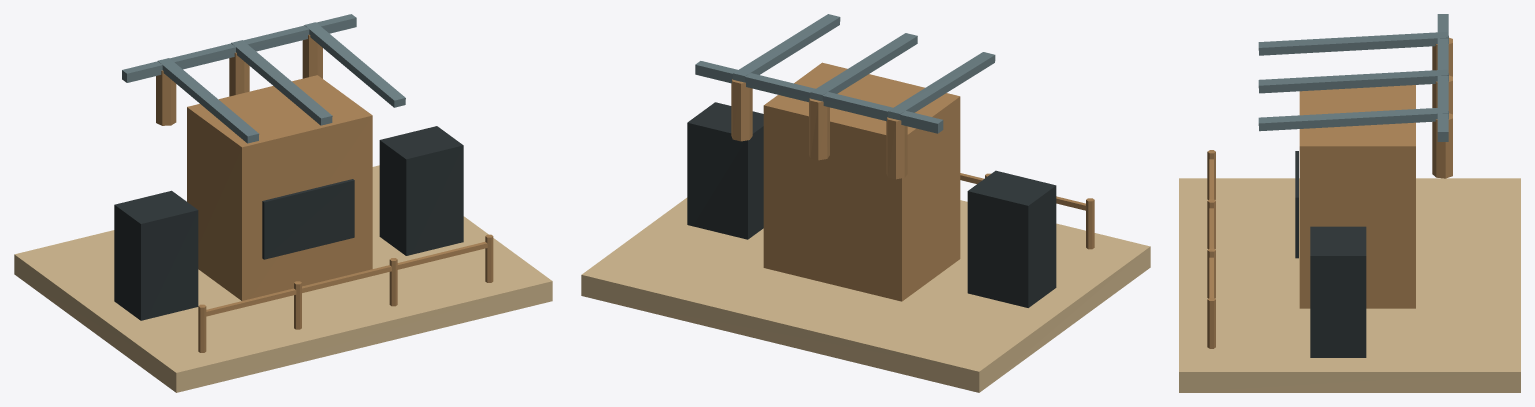
File: automated-power-station.source.glb
3 views of the same model, side by side, from view 1: azimuth 30°, elevation 25°; view 2: azimuth 150°, elevation 25°; view 3: azimuth 270°, elevation 25° (orthographic). The views are drawn at different scales.
Parts seen in each view (by area): view 1: automated-power-station-grounded-station-pad-mesh, automated-power-station-tall-transformer-housing-mesh, automated-power-station-side-electrical-cabinet-1-mesh, automated-power-station-side-electrical-cabinet-2-mesh, automated-power-station-transformer-dark-front-mesh, automated-power-station-high-voltage-switching-frame-mesh, automated-power-station-overhead-bus-bar-3-mesh, automated-power-station-overhead-bus-bar-2-mesh, automated-power-station-overhead-bus-bar-1-mesh, automated-power-station-insulator-post-1-mesh, automated-power-station-insulator-post-3-mesh, automated-power-station-insulator-post-2-mesh (+3 smaller); view 2: automated-power-station-grounded-station-pad-mesh, automated-power-station-tall-transformer-housing-mesh, automated-power-station-side-electrical-cabinet-1-mesh, automated-power-station-side-electrical-cabinet-2-mesh, automated-power-station-high-voltage-switching-frame-mesh, automated-power-station-overhead-bus-bar-2-mesh, automated-power-station-overhead-bus-bar-3-mesh, automated-power-station-overhead-bus-bar-1-mesh, automated-power-station-insulator-post-1-mesh, automated-power-station-insulator-post-3-mesh, automated-power-station-insulator-post-2-mesh; view 3: automated-power-station-grounded-station-pad-mesh, automated-power-station-tall-transformer-housing-mesh, automated-power-station-side-electrical-cabinet-2-mesh, automated-power-station-overhead-bus-bar-1-mesh, automated-power-station-overhead-bus-bar-2-mesh, automated-power-station-overhead-bus-bar-3-mesh, automated-power-station-high-voltage-switching-frame-mesh, automated-power-station-insulator-post-3-mesh, automated-power-station-fence-post-4-mesh, automated-power-station-transformer-dark-front-mesh, automated-power-station-insulator-post-1-mesh, automated-power-station-insulator-post-2-mesh.
Boxes of the visible parts, left/top/right/bottom form: automated-power-station-grounded-station-pad-mesh: left=14, top=165, right=552, bottom=392; automated-power-station-tall-transformer-housing-mesh: left=187, top=75, right=372, bottom=300; automated-power-station-side-electrical-cabinet-1-mesh: left=114, top=190, right=198, bottom=320; automated-power-station-side-electrical-cabinet-2-mesh: left=379, top=126, right=463, bottom=255; automated-power-station-transformer-dark-front-mesh: left=262, top=179, right=354, bottom=259; automated-power-station-high-voltage-switching-frame-mesh: left=122, top=14, right=356, bottom=82; automated-power-station-overhead-bus-bar-3-mesh: left=304, top=22, right=405, bottom=107; automated-power-station-overhead-bus-bar-2-mesh: left=231, top=40, right=332, bottom=125; automated-power-station-overhead-bus-bar-1-mesh: left=158, top=58, right=259, bottom=143; automated-power-station-insulator-post-1-mesh: left=156, top=70, right=176, bottom=125; automated-power-station-insulator-post-3-mesh: left=302, top=34, right=322, bottom=78; automated-power-station-insulator-post-2-mesh: left=229, top=52, right=249, bottom=96; automated-power-station-grounded-station-pad-mesh: left=581, top=197, right=1150, bottom=392; automated-power-station-tall-transformer-housing-mesh: left=763, top=62, right=960, bottom=301; automated-power-station-side-electrical-cabinet-1-mesh: left=967, top=170, right=1056, bottom=307; automated-power-station-side-electrical-cabinet-2-mesh: left=687, top=102, right=763, bottom=239; automated-power-station-high-voltage-switching-frame-mesh: left=695, top=61, right=943, bottom=133; automated-power-station-overhead-bus-bar-2-mesh: left=810, top=33, right=917, bottom=101; automated-power-station-overhead-bus-bar-3-mesh: left=732, top=14, right=840, bottom=82; automated-power-station-overhead-bus-bar-1-mesh: left=888, top=52, right=995, bottom=120; automated-power-station-insulator-post-1-mesh: left=886, top=117, right=907, bottom=179; automated-power-station-insulator-post-3-mesh: left=731, top=79, right=752, bottom=141; automated-power-station-insulator-post-2-mesh: left=809, top=98, right=829, bottom=160; automated-power-station-grounded-station-pad-mesh: left=1179, top=178, right=1520, bottom=392; automated-power-station-tall-transformer-housing-mesh: left=1299, top=85, right=1415, bottom=308; automated-power-station-side-electrical-cabinet-2-mesh: left=1310, top=226, right=1366, bottom=357; automated-power-station-overhead-bus-bar-1-mesh: left=1258, top=31, right=1448, bottom=55; automated-power-station-overhead-bus-bar-2-mesh: left=1258, top=69, right=1448, bottom=93; automated-power-station-overhead-bus-bar-3-mesh: left=1258, top=107, right=1448, bottom=131; automated-power-station-high-voltage-switching-frame-mesh: left=1437, top=14, right=1448, bottom=141; automated-power-station-insulator-post-3-mesh: left=1432, top=113, right=1452, bottom=178; automated-power-station-fence-post-4-mesh: left=1207, top=298, right=1215, bottom=348; automated-power-station-transformer-dark-front-mesh: left=1295, top=151, right=1298, bottom=258; automated-power-station-insulator-post-1-mesh: left=1432, top=37, right=1452, bottom=76; automated-power-station-insulator-post-2-mesh: left=1432, top=75, right=1452, bottom=114.
Bounding box in the file's own units: 5.9 × 3.18 × 4.4.
